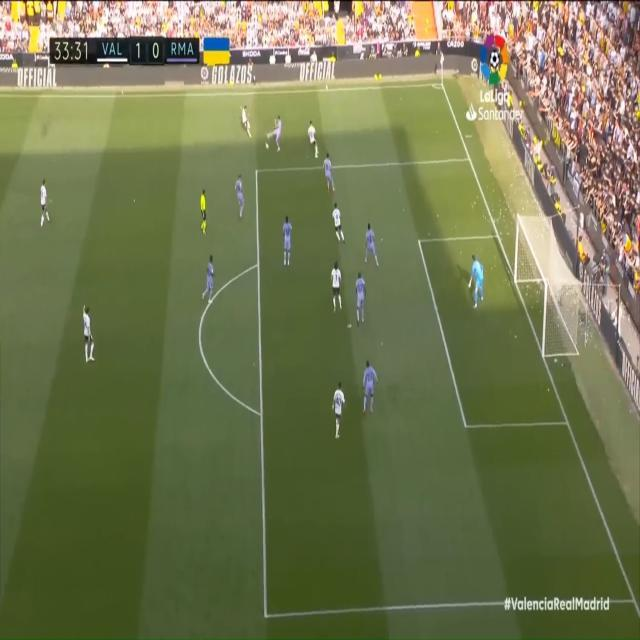ball: (264, 141, 271, 152)
goalkeeper: (466, 246, 488, 317)
player: (74, 302, 101, 379), (199, 248, 223, 321), (276, 202, 297, 272), (361, 356, 380, 428), (34, 173, 56, 234), (361, 218, 384, 274), (300, 112, 323, 162), (265, 113, 290, 157), (232, 161, 249, 224), (329, 251, 344, 318), (353, 266, 368, 331), (331, 380, 346, 443), (327, 200, 348, 241), (320, 152, 337, 199), (238, 102, 257, 141)
referee: (198, 186, 210, 243)
